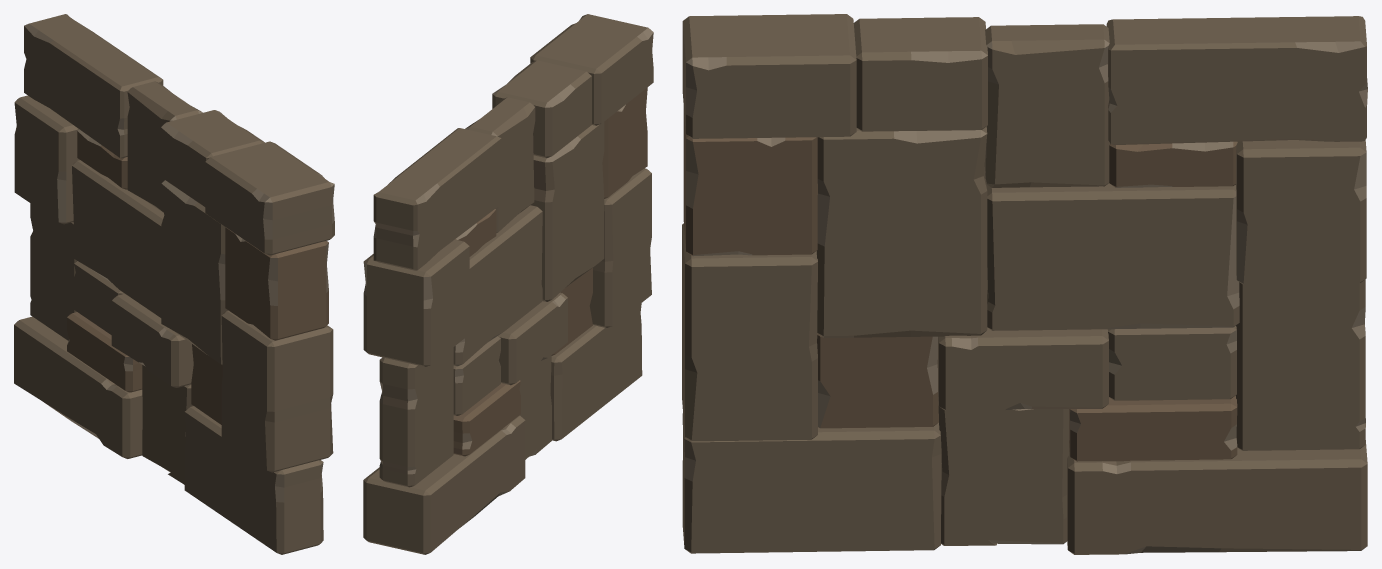
File: chamber_wall_west_2_lev3.glb
3 renders of one model, left to right at view 1: azimuth 30°, elevation 25°; view 2: azimuth 150°, elevation 25°; view 3: azimuth 270°, elevation 25°, orthographic. The views are drawn at different scales.
Visible parts, largest first — view 1: chamber_wall_west_2_lev3; view 2: chamber_wall_west_2_lev3; view 3: chamber_wall_west_2_lev3.
Boxes of the visible parts, box(x1,y1,x2,y2) form: chamber_wall_west_2_lev3: box(14, 14, 334, 554); chamber_wall_west_2_lev3: box(363, 14, 653, 554); chamber_wall_west_2_lev3: box(682, 14, 1367, 554).
Size of the model in its own units: 1.44 by 5.96 by 7.35.
